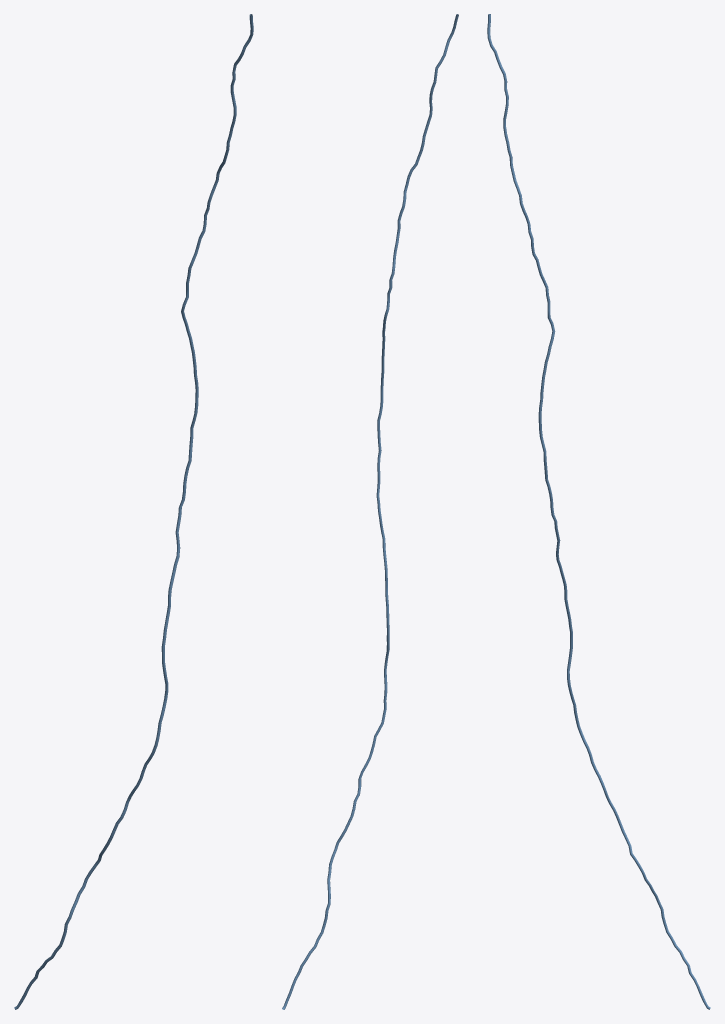
File: sweep28.fbx
The picture shows the model from 3 angles, left to right: view 1: azimuth 90°, elevation 25°; view 2: azimuth 150°, elevation 25°; view 3: azimuth 270°, elevation 25°; orthographic projection. The views are drawn at different scales.
Parts seen in each view (by area): view 1: sweep28; view 2: sweep28; view 3: sweep28.
Part boxes in pixels (box(x1,y1,x2,y2)): sweep28: box(14, 14, 253, 1009); sweep28: box(282, 14, 458, 1009); sweep28: box(487, 14, 710, 1009).
Bounding box in the file's own units: 0.5577 × 7.13 × 1.5.
